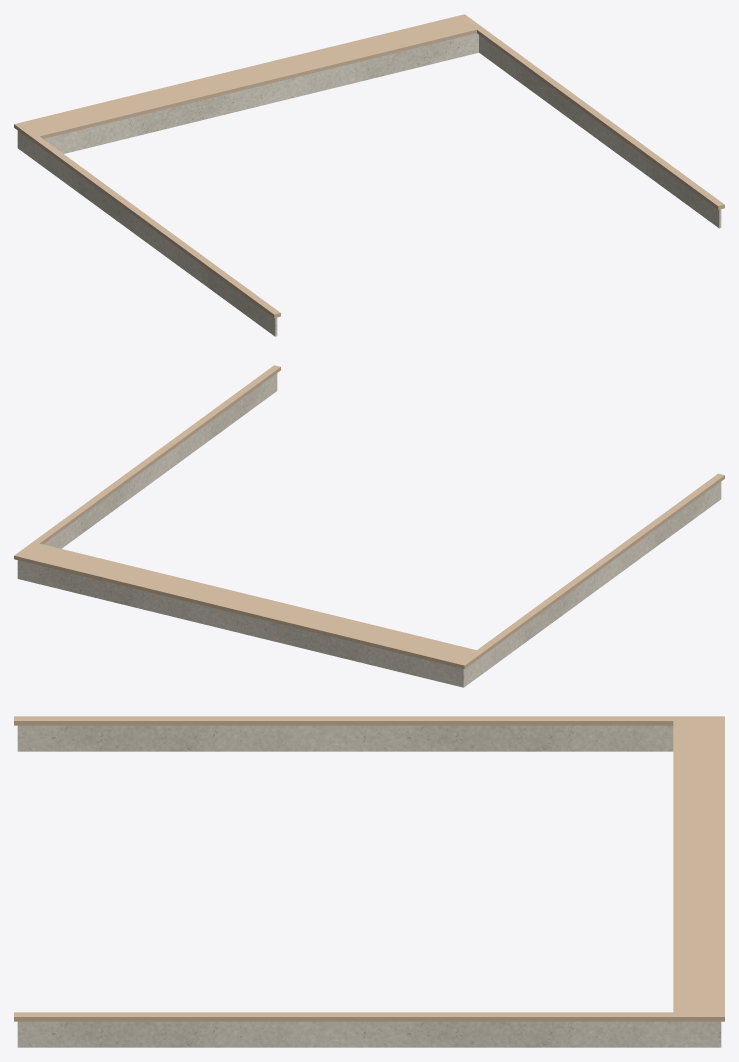
The model's file is stair_core_slab_192_192_29.glb.
3 views of the same model, one above another, from view 1: azimuth 30°, elevation 25°; view 2: azimuth 150°, elevation 25°; view 3: azimuth 270°, elevation 25° (orthographic). The views are drawn at different scales.
Visible parts, largest first — view 1: stair_core_slab_192_192_29_plaster, stair_core_slab_192_192_29_floor; view 2: stair_core_slab_192_192_29_plaster, stair_core_slab_192_192_29_floor; view 3: stair_core_slab_192_192_29_plaster, stair_core_slab_192_192_29_floor.
Boxes of the visible parts, x1,y1,x2,y2 form: stair_core_slab_192_192_29_plaster: (17, 33, 721, 336); stair_core_slab_192_192_29_floor: (14, 14, 724, 318); stair_core_slab_192_192_29_plaster: (17, 373, 721, 687); stair_core_slab_192_192_29_floor: (14, 365, 724, 669); stair_core_slab_192_192_29_plaster: (17, 725, 721, 1047); stair_core_slab_192_192_29_floor: (14, 716, 724, 1021).
Size of the model in its own units: 4 by 0.2 by 4.
2 materials, 1 textured.
